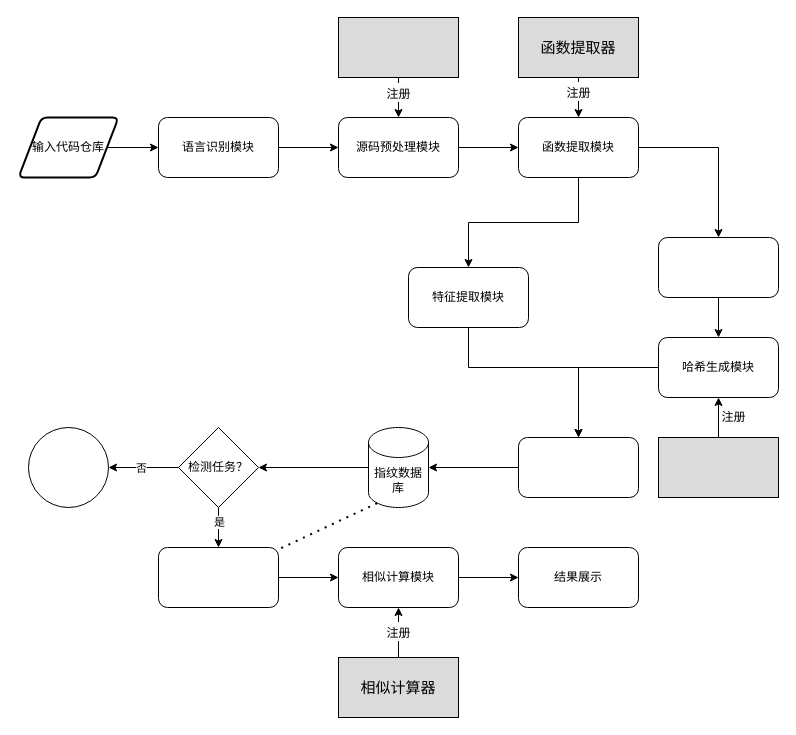
The diagram is 796 pixels wide and 735 high, and some of its shapes have lost their labels. Each missing label, with the box of its shape:
哈希计算器: (658, 436, 778, 498)
指纹特征索引模块: (518, 436, 638, 498)
特征检索模块: (158, 546, 278, 608)
结束: (28, 426, 108, 508)
规范化模块: (658, 236, 778, 298)
语言解析器: (338, 16, 458, 78)
